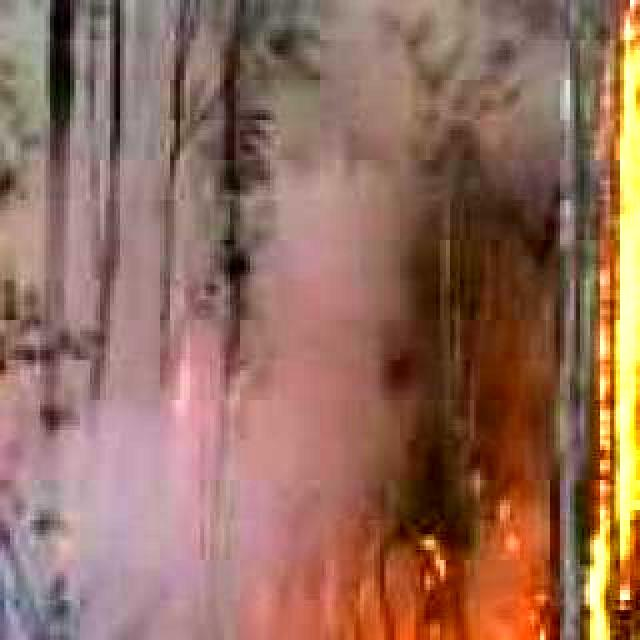fire: (594, 0, 640, 626)
